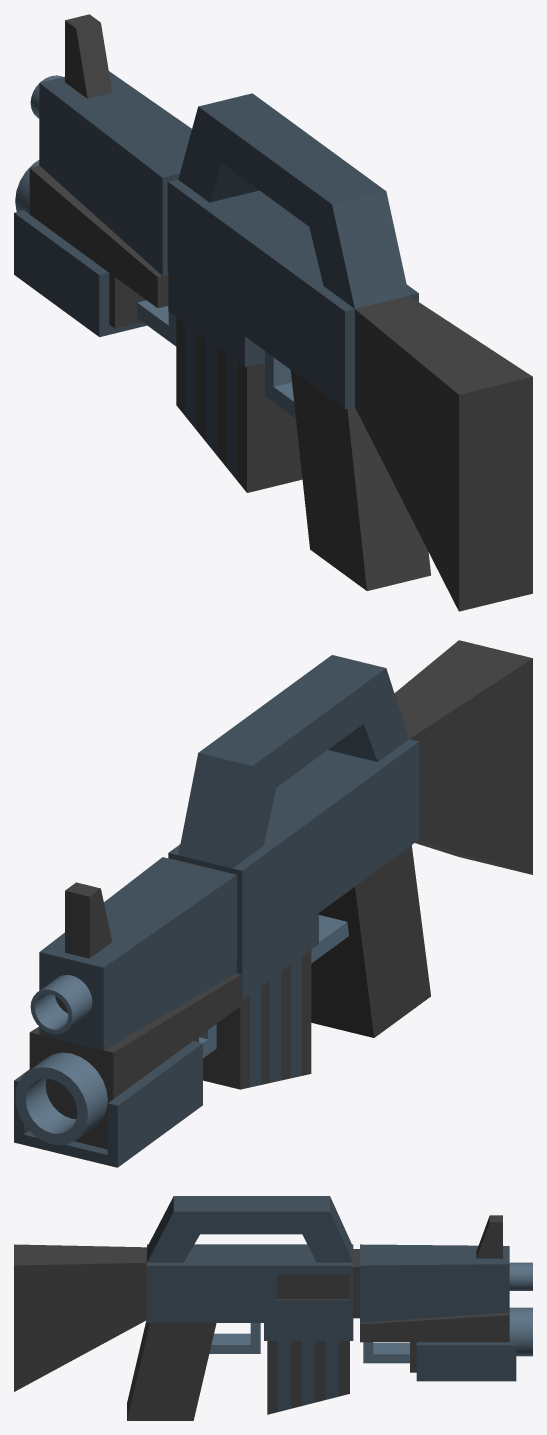
File: machinegunLauncher.obj
3 renders of one model, top to bottom at view 1: azimuth 30°, elevation 25°; view 2: azimuth 150°, elevation 25°; view 3: azimuth 270°, elevation 25°, orthographic. The views are drawn at different scales.
Parts seen in each view (by area): view 1: Group; view 2: Group; view 3: Group.
Boxes of the visible parts, x1,y1,x2,y2 form: Group: [14, 14, 532, 611]; Group: [14, 640, 532, 1167]; Group: [14, 1196, 532, 1420].
Bounding box in the file's own units: 0.0804 × 0.2641 × 0.5972.
